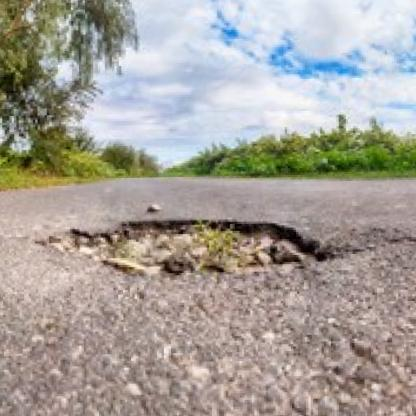pothole: (30, 215, 339, 282)
